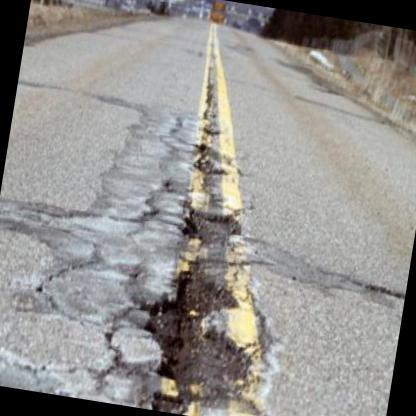pothole: (129, 263, 259, 416), (178, 204, 246, 248)
